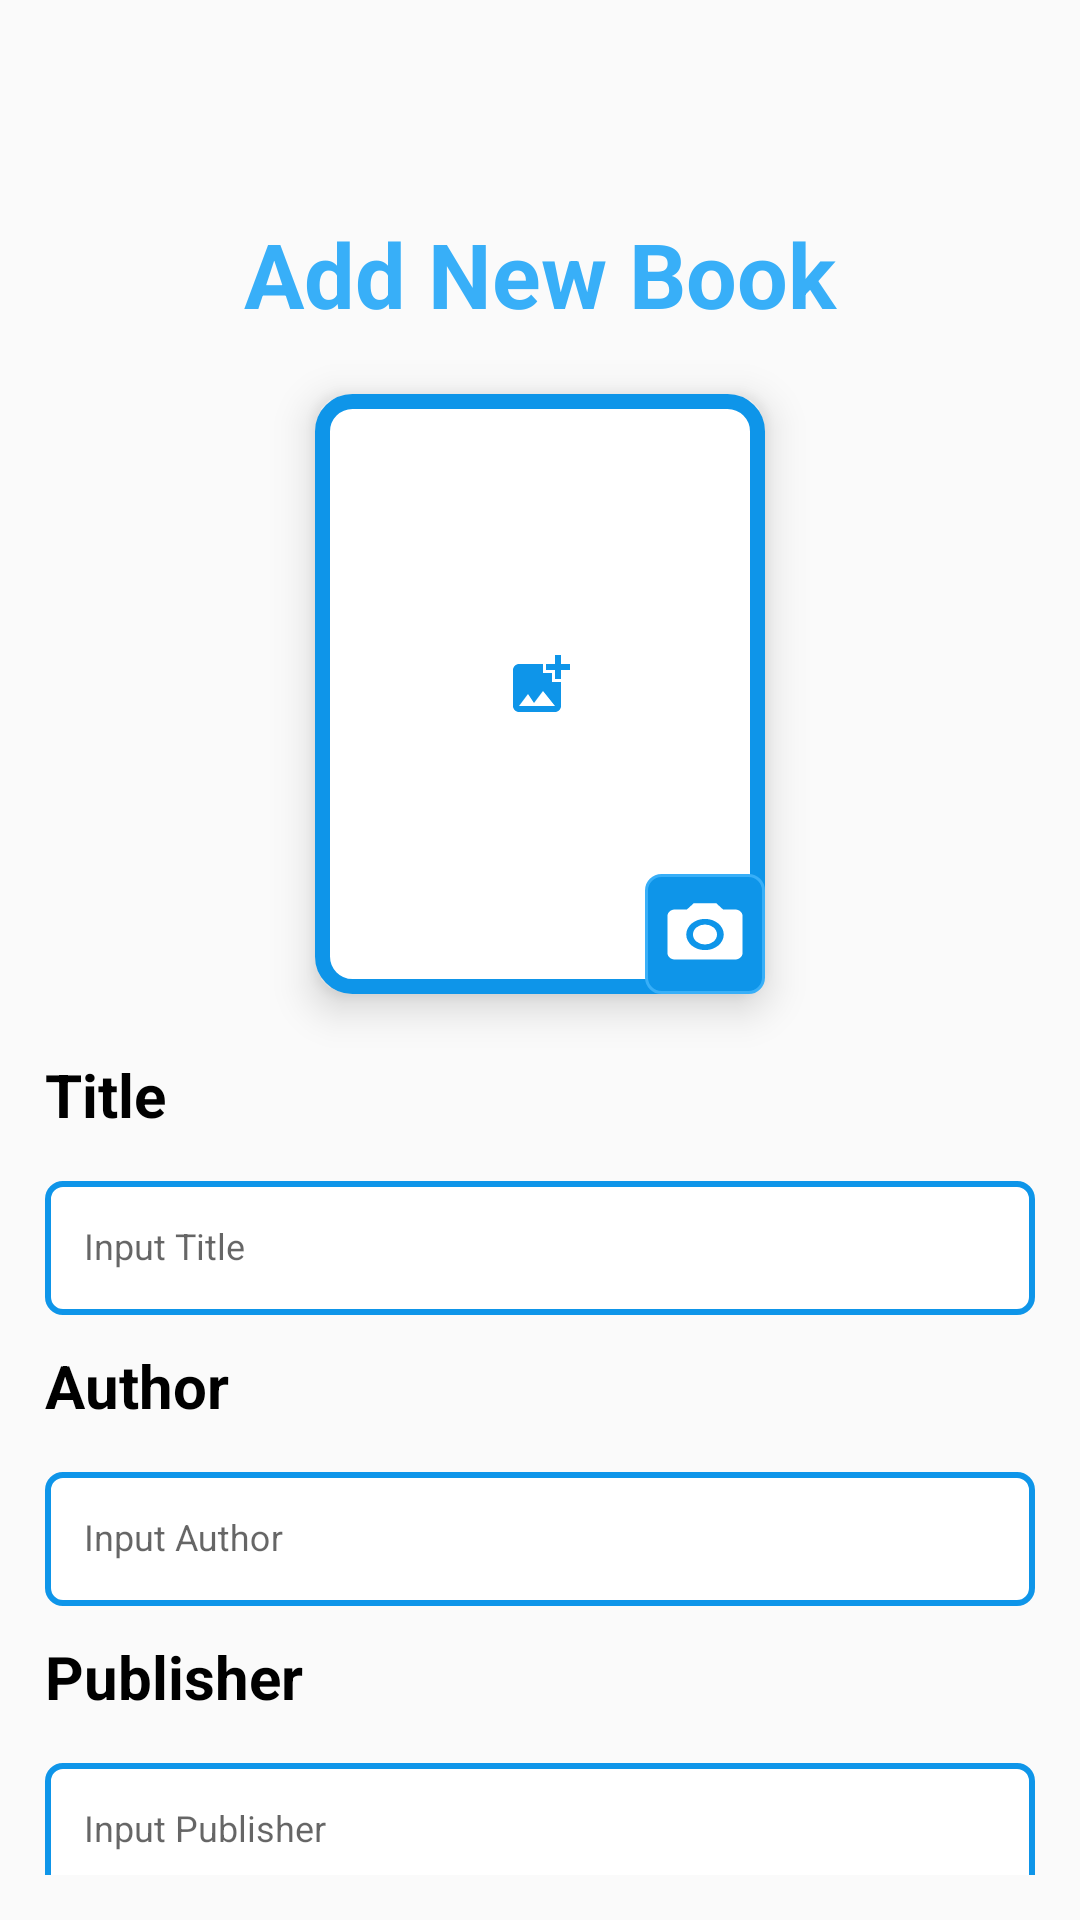

Icons on this 1080*1920 Android screen, each with the point to tap as (x=x, y=y):
Camera: (x=705, y=934)
